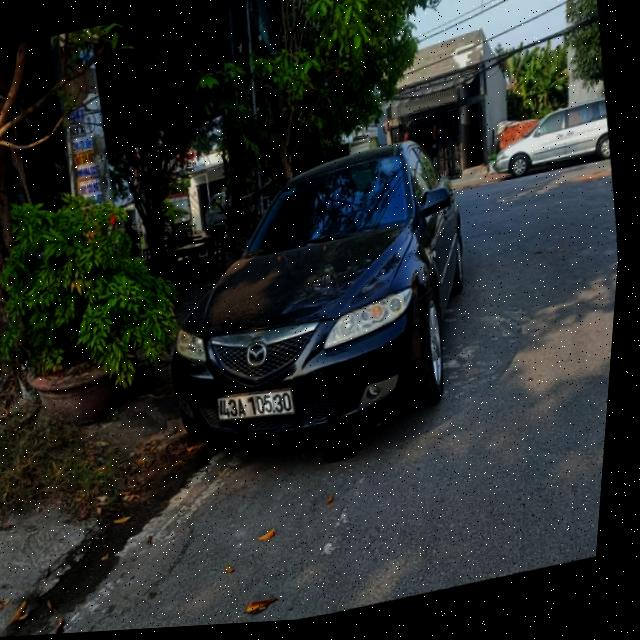car: (135, 116, 504, 480), (487, 92, 618, 187)
plate: (210, 380, 301, 431)
